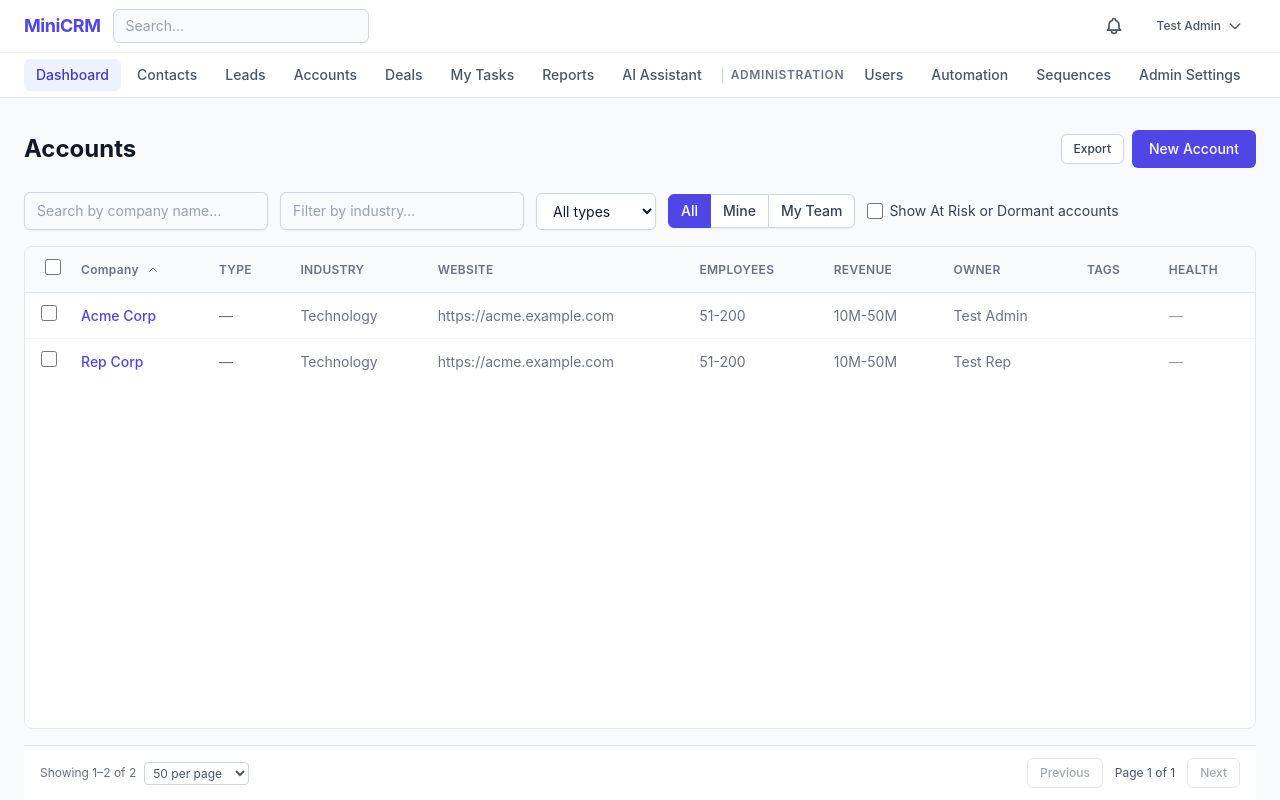
AccountsPage › filters accounts to current user when Mine toggle is clicked
Click the button with test id "accounts-owner-filter-mine" at (740, 211), box [710, 194, 769, 228]
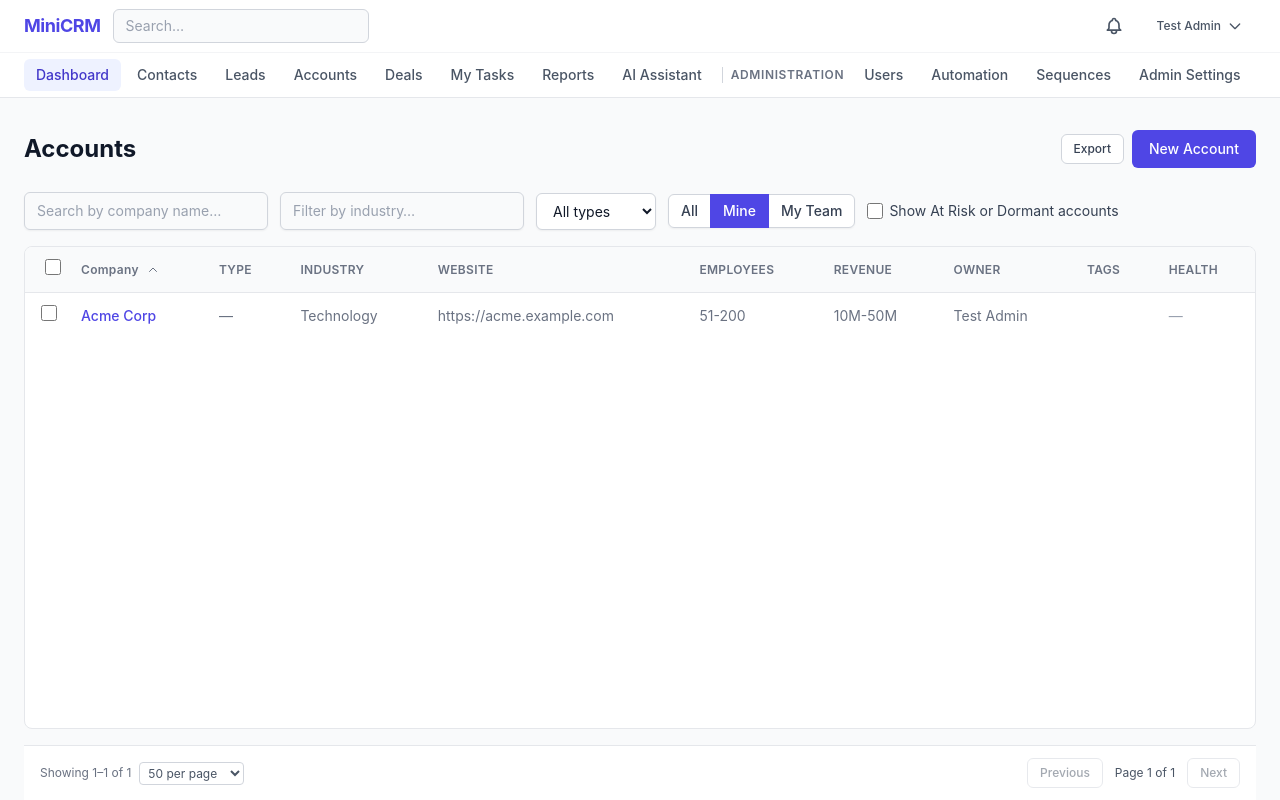
Expected: the link "Rep Corp" is gone
